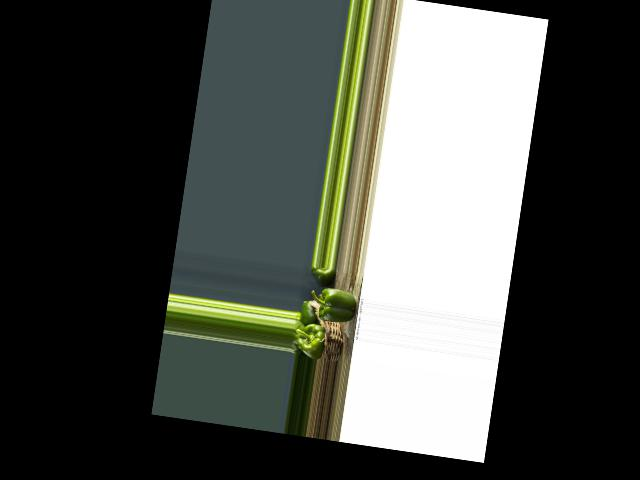bell_pepper: (310, 265, 332, 281)
